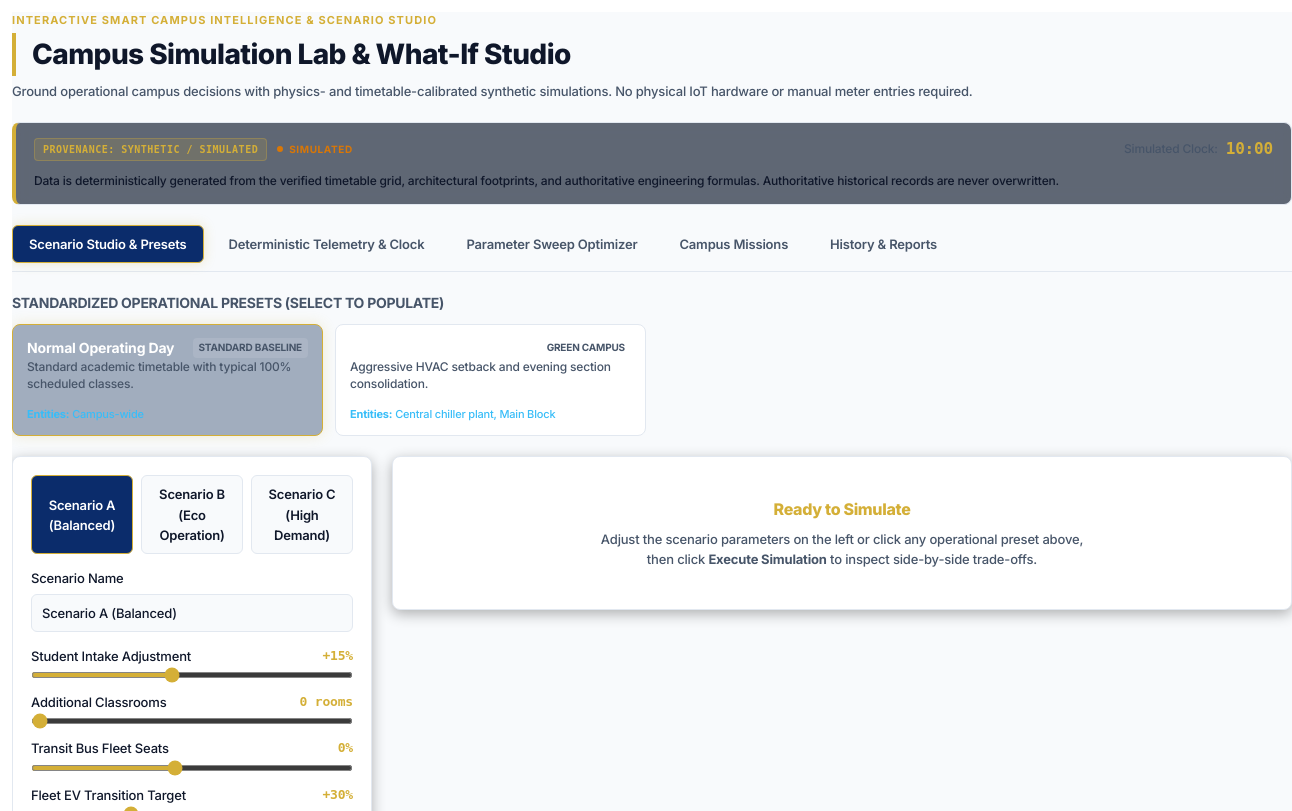
it: SimulationLab Smart Campus Intelligence Studio › switches to Deterministic Telemetry & Clock tab and controls clock
Click the button "Deterministic Telemetry & Clock". click: (327, 244)
box: [212,225,442,263]
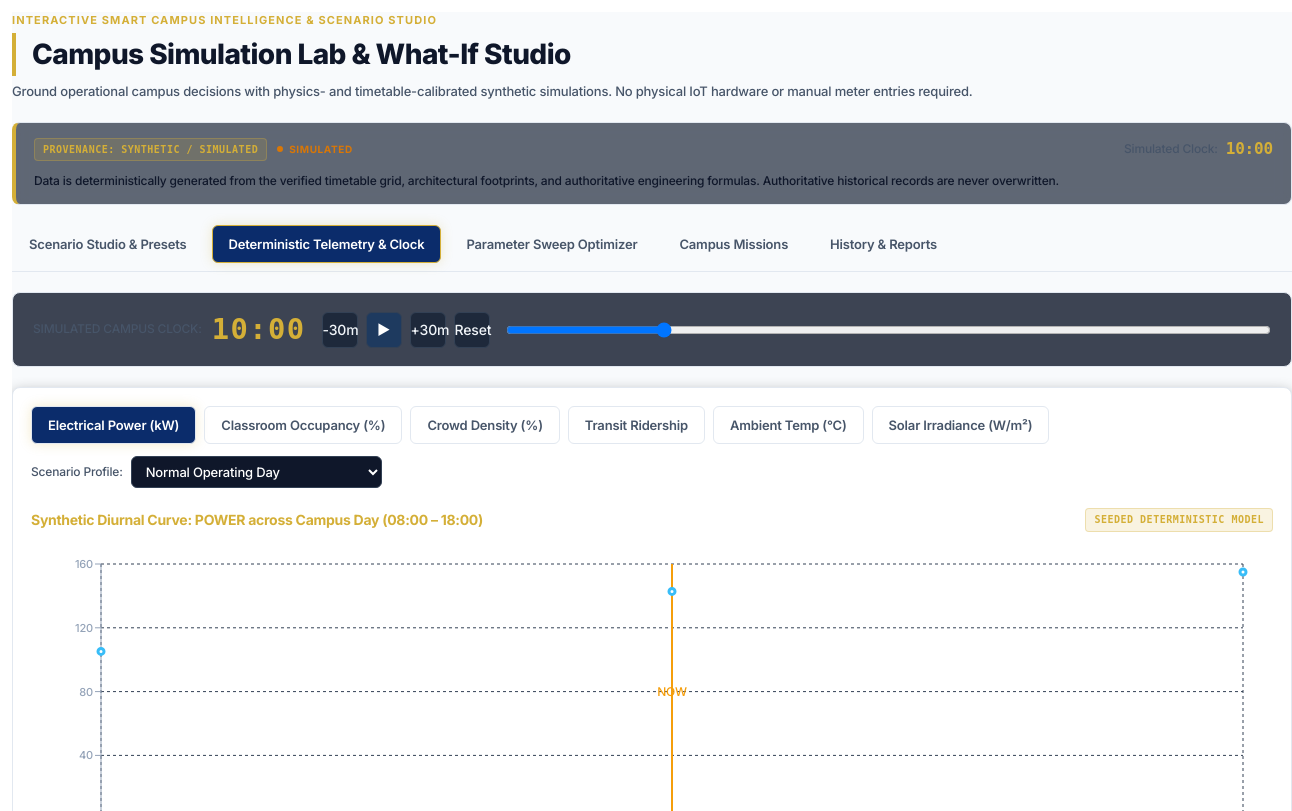
Check: the text "10:00" next to "Simulated Clock:" is shown, box [1226,139,1273,158]
Click the button titled "advance 30 mins". click: (428, 330)
box: [410,312,446,348]
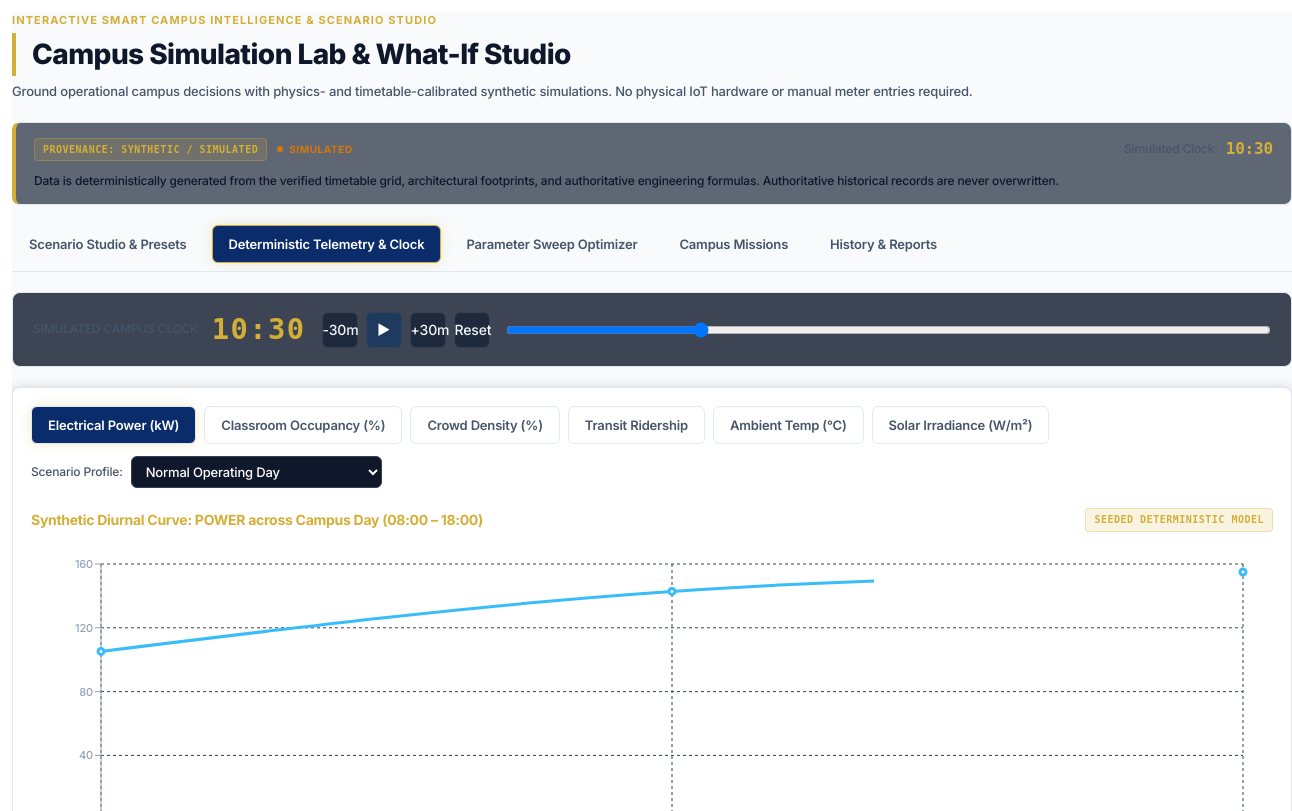
Check: the text "10:30" next to "Simulated Clock:" is shown, box [1226,139,1273,158]
